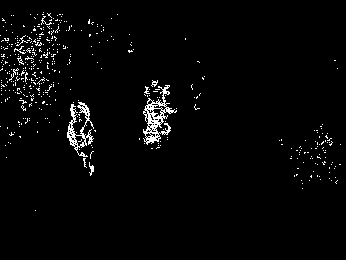person: (67, 100, 98, 176)
